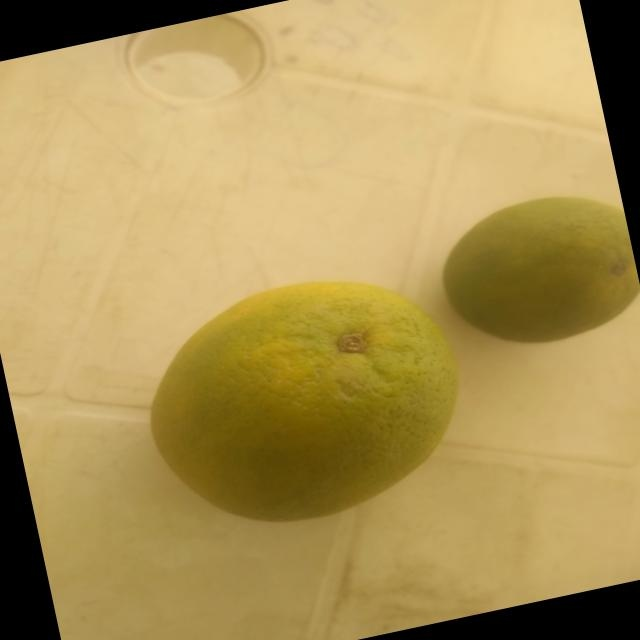agrume: (111, 234, 489, 562), (419, 172, 640, 374)
